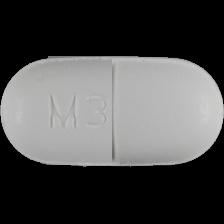43353-422: (0, 0, 224, 224)
